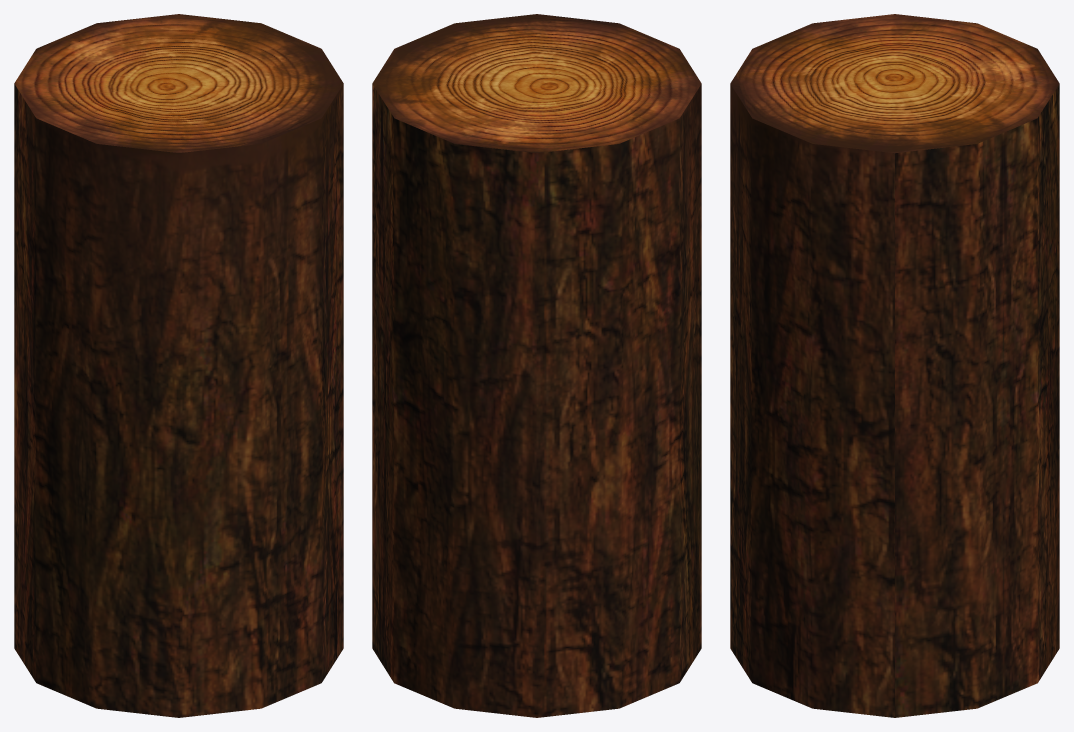
File: TreeTrunk_Model.FBX
3 renders of one model, left to right at view 1: azimuth 30°, elevation 25°; view 2: azimuth 150°, elevation 25°; view 3: azimuth 270°, elevation 25°, orthographic.
Visible parts, largest first — view 1: Piece; view 2: Piece; view 3: Piece.
Part boxes in pixels (bbox=[...]): Piece: bbox=[14, 14, 343, 717]; Piece: bbox=[372, 14, 701, 717]; Piece: bbox=[730, 14, 1059, 717].
Size of the model in its own units: 106 by 200 by 106.
